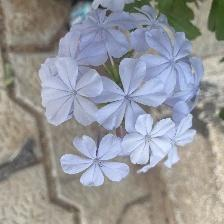chitrak: (94, 61, 162, 128), (47, 58, 100, 124), (144, 25, 195, 92), (68, 131, 126, 189), (76, 5, 136, 55), (131, 2, 184, 51), (125, 116, 171, 169), (59, 34, 108, 80), (166, 117, 198, 159)
